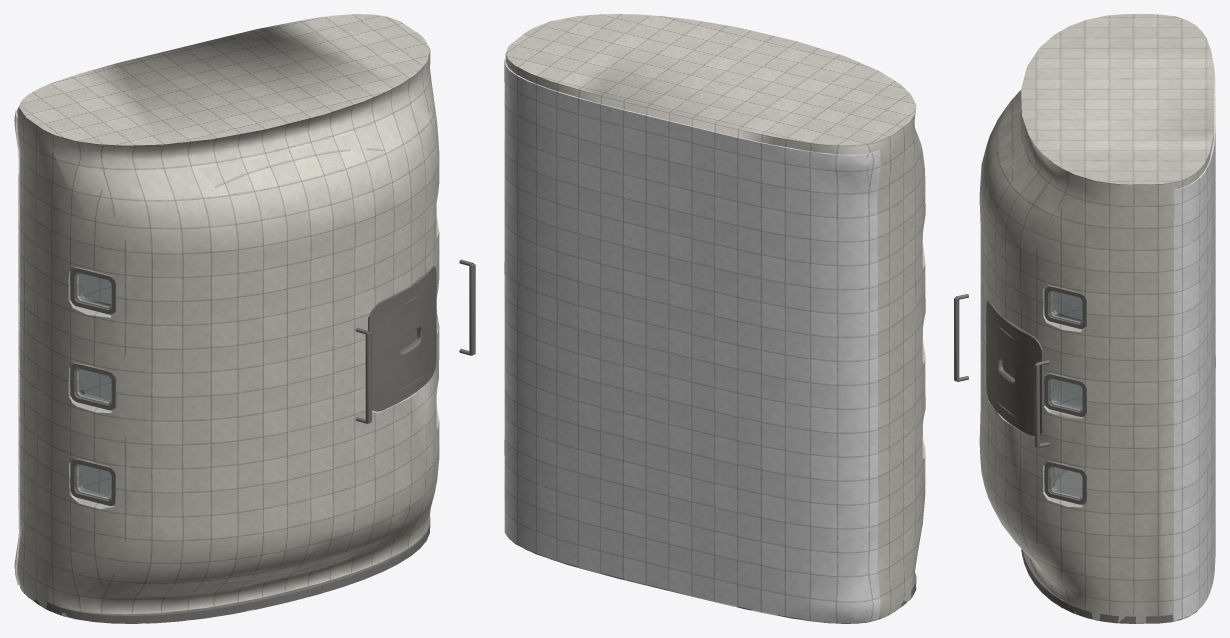
The model's file is ax_aero_10_fs2p_passenger_cabin.glb.
3 views of the same model, side by side, from view 1: azimuth 30°, elevation 25°; view 2: azimuth 150°, elevation 25°; view 3: azimuth 270°, elevation 25° (orthographic). The views are drawn at different scales.
Parts seen in each view (by area): view 1: fuselage, hatch_door_1, aft_frame, window_glass, window_frames, hatch_rails_1, belly_tiles; view 2: belly_tiles, fuselage; view 3: fuselage, belly_tiles, hatch_door_1, window_glass, window_frames, aft_frame, hatch_rails_1.
Boxes of the visible parts, left/top/right/bottom form: fuselage: left=17, top=14, right=439, bottom=623; hatch_door_1: left=368, top=266, right=436, bottom=411; aft_frame: left=20, top=522, right=429, bottom=623; window_glass: left=75, top=273, right=111, bottom=500; window_frames: left=70, top=268, right=115, bottom=505; hatch_rails_1: left=355, top=259, right=475, bottom=424; belly_tiles: left=14, top=107, right=20, bottom=584; belly_tiles: left=504, top=59, right=880, bottom=622; fuselage: left=505, top=14, right=925, bottom=623; fuselage: left=979, top=14, right=1214, bottom=623; belly_tiles: left=1174, top=60, right=1215, bottom=620; hatch_door_1: left=986, top=301, right=1045, bottom=436; window_glass: left=1049, top=291, right=1082, bottom=499; window_frames: left=1044, top=286, right=1086, bottom=504; aft_frame: left=1021, top=549, right=1198, bottom=623; hatch_rails_1: left=954, top=294, right=1049, bottom=448.
Bounding box in the file's own units: 2.54 × 3 × 1.62.
Materials: 4 (3 with a texture image).
